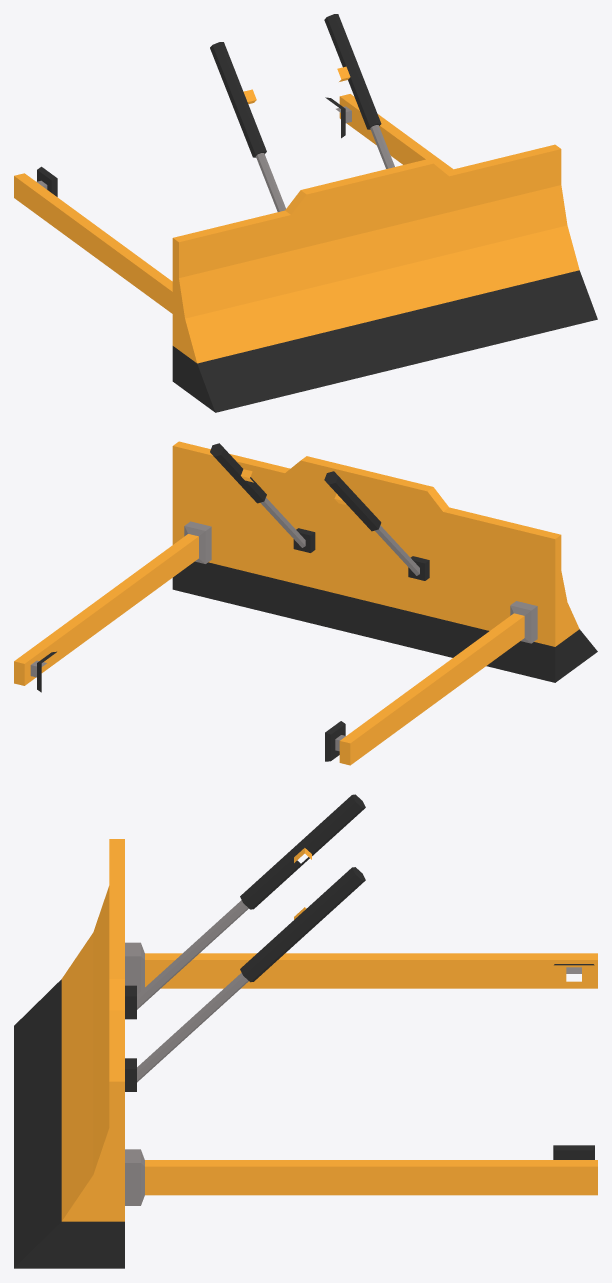
File: bulldozer-front.glb
The picture shows the model from 3 angles, top to bottom: view 1: azimuth 30°, elevation 25°; view 2: azimuth 150°, elevation 25°; view 3: azimuth 270°, elevation 25°; orthographic projection. The views are drawn at different scales.
Parts seen in each view (by area): view 1: bulldozer-front; view 2: bulldozer-front; view 3: bulldozer-front.
Part boxes in pixels (left/top/right/bottom): bulldozer-front: left=14, top=14, right=597, bottom=412; bulldozer-front: left=14, top=441, right=597, bottom=765; bulldozer-front: left=14, top=794, right=597, bottom=1268.
Size of the model in its own units: 2.9 by 1.76 by 2.94.
1 material, 1 textured.
